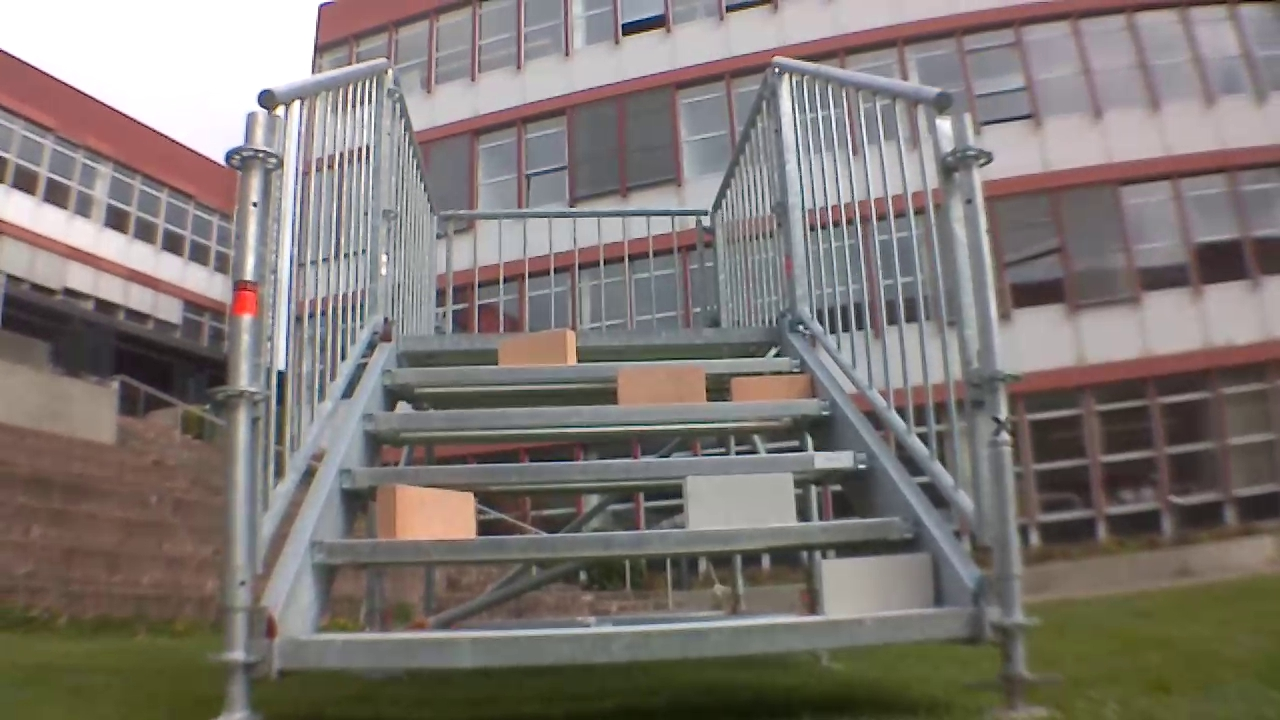brick: (818, 552, 930, 613), (682, 472, 793, 528), (375, 481, 475, 538), (619, 365, 705, 404), (498, 329, 577, 365), (730, 374, 811, 402)
edge: (281, 609, 975, 665), (314, 516, 912, 562), (342, 451, 871, 484), (364, 396, 833, 428), (381, 357, 798, 381), (399, 325, 779, 348)
stairs: (229, 57, 1062, 718)
steps: (272, 321, 980, 671)
